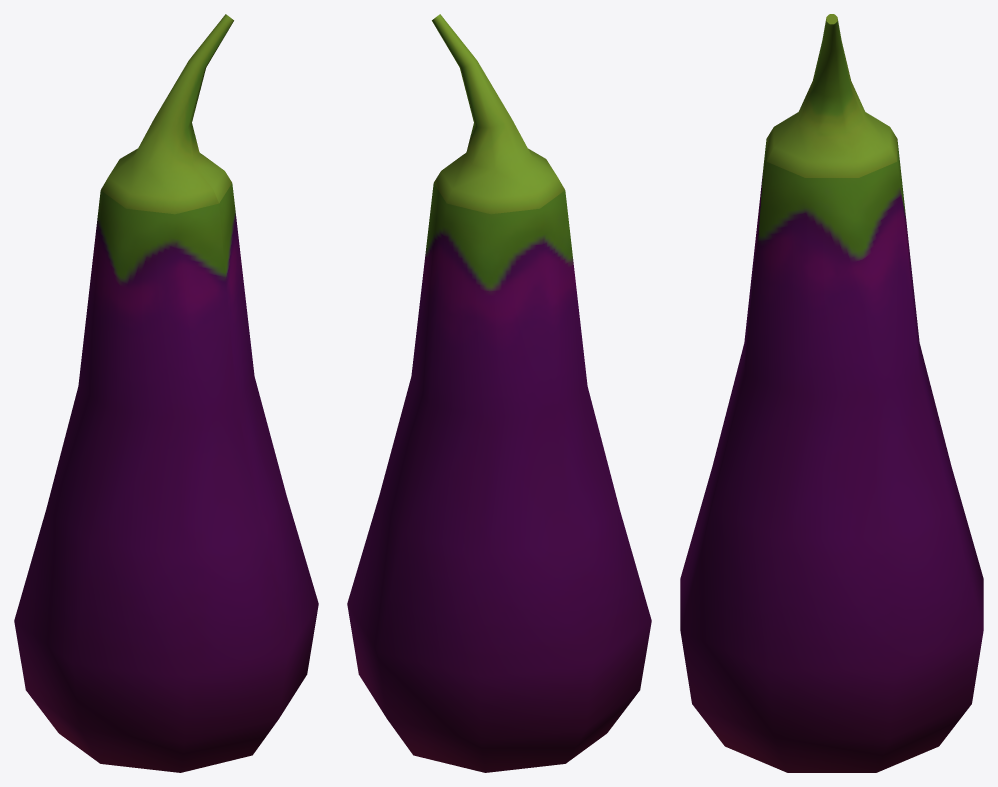
The model's file is Vegetables01_11.FBX.
3 renders of one model, left to right at view 1: azimuth 30°, elevation 25°; view 2: azimuth 150°, elevation 25°; view 3: azimuth 270°, elevation 25°, orthographic. The views are drawn at different scales.
Visible parts, largest first — view 1: Vegetables01_11; view 2: Vegetables01_11; view 3: Vegetables01_11.
Boxes of the visible parts, x1,y1,x2,y2 form: Vegetables01_11: [14, 14, 318, 772]; Vegetables01_11: [347, 14, 651, 772]; Vegetables01_11: [680, 14, 983, 772].
Size of what is drawn, in the model's own units: 0.0979 by 0.2742 by 0.0979.
